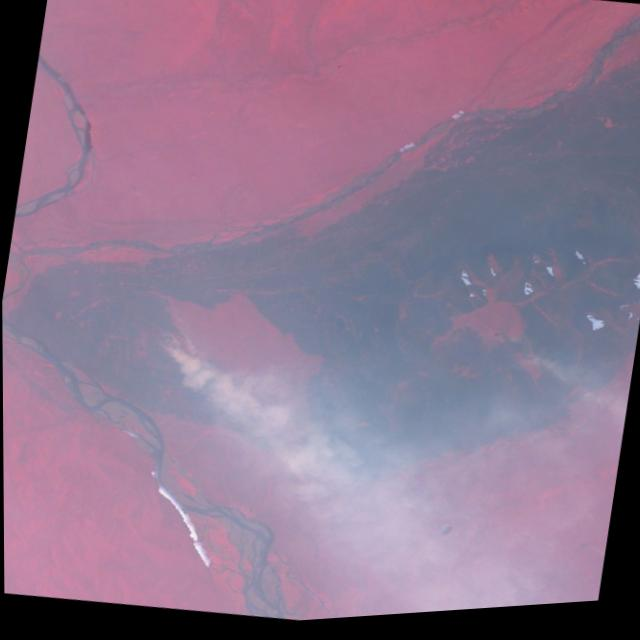fire: (107, 304, 313, 480), (471, 327, 602, 440)
